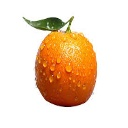orange: (35, 17, 98, 107)
